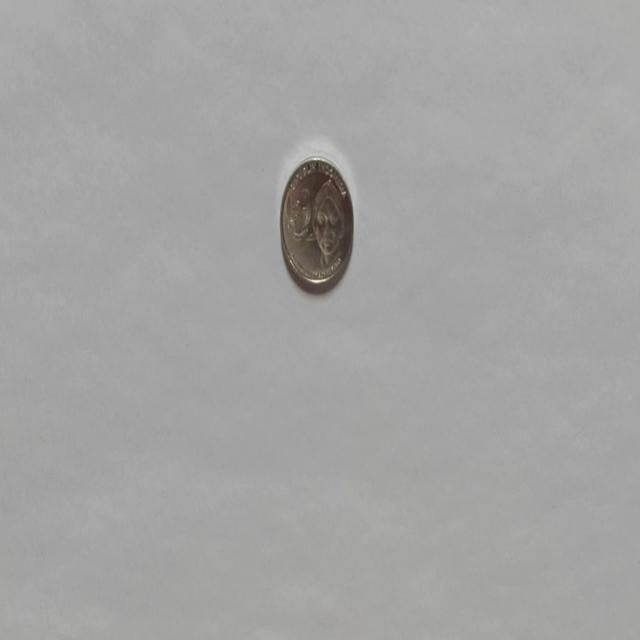dua ratus rupiah: (279, 152, 354, 292)
